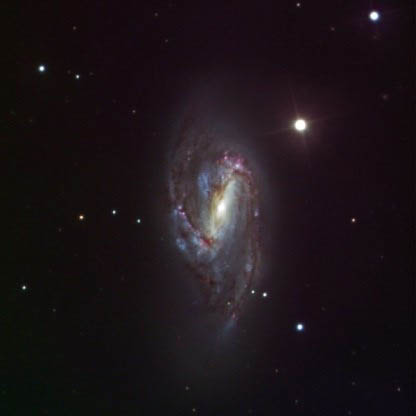Messier 66: (155, 98, 318, 326)
